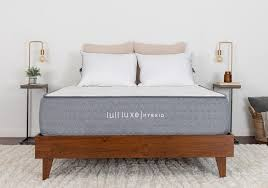bed-matress: (38, 82, 231, 136)
